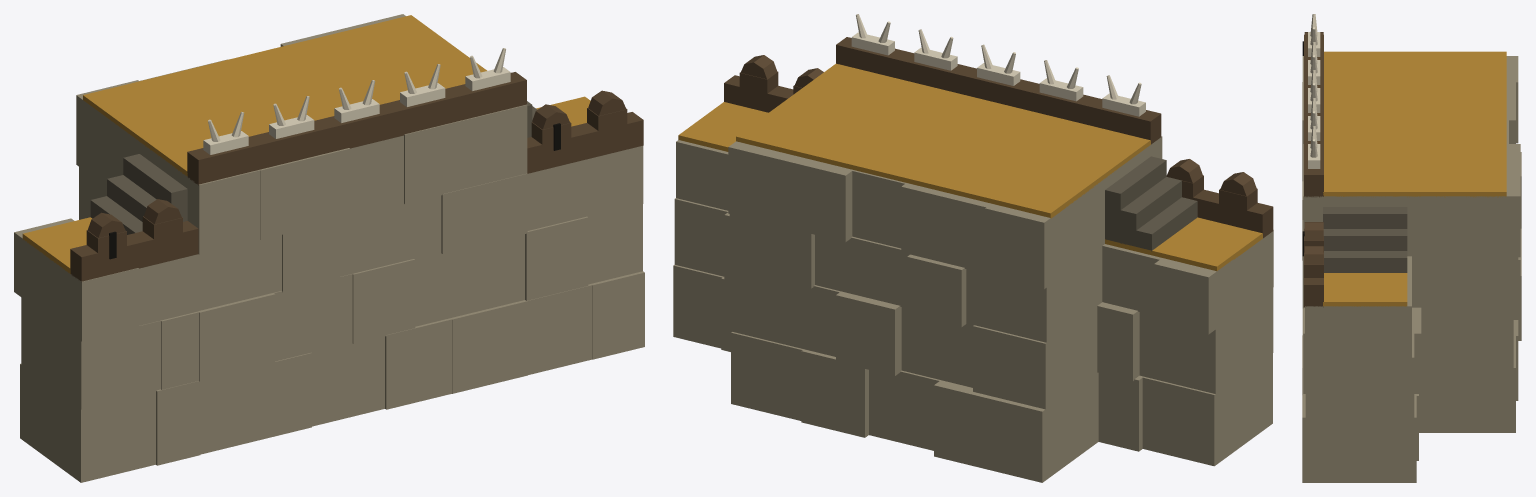
File: BronzeBastion.fbx
The picture shows the model from 3 angles, left to right: view 1: azimuth 30°, elevation 25°; view 2: azimuth 150°, elevation 25°; view 3: azimuth 270°, elevation 25°; orthographic projection. The views are drawn at different scales.
Visible parts, largest first — view 1: BronzeBastion; view 2: BronzeBastion; view 3: BronzeBastion.
Part boxes in pixels (left/top/right/bottom): BronzeBastion: left=14, top=14, right=644, bottom=482; BronzeBastion: left=673, top=14, right=1273, bottom=482; BronzeBastion: left=1302, top=14, right=1521, bottom=482.
Size of the model in its own units: 1202 by 667 by 464.
Materials: 6 (6 with a texture image).
